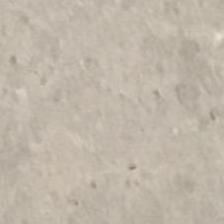Non_Crack: (21, 34, 188, 180)
